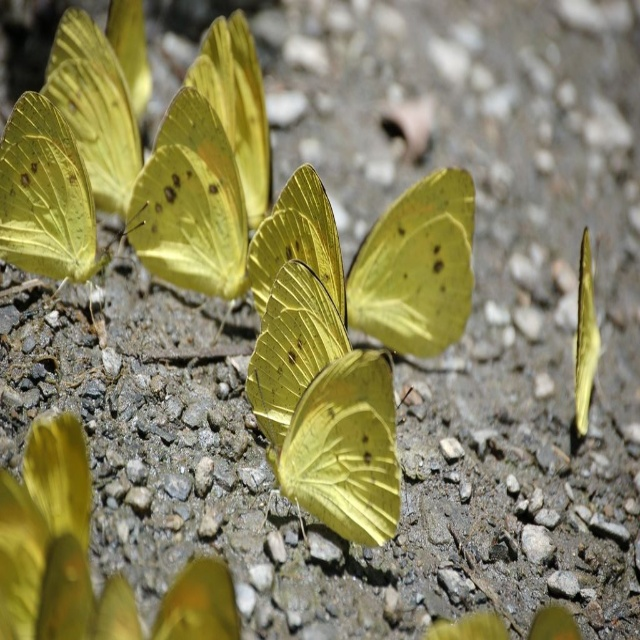Butterfly: (0, 0, 608, 639)
